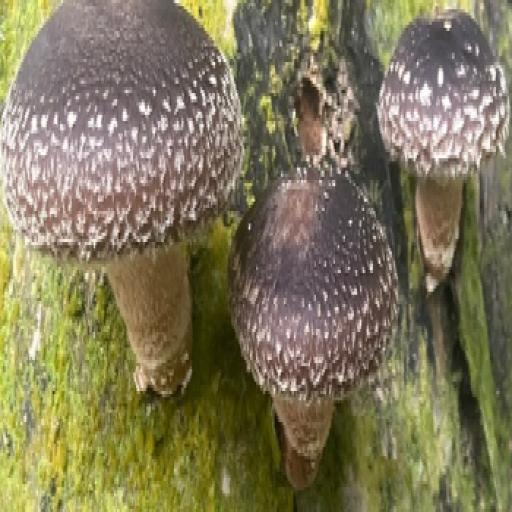Shiitake Mushroom: (0, 0, 245, 397), (206, 161, 445, 484), (382, 13, 508, 280)
